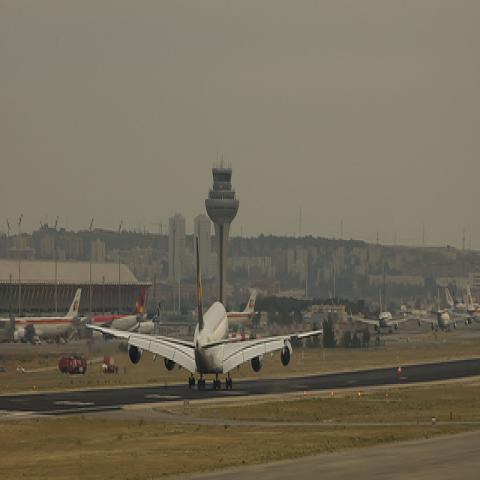truck: (68, 356, 87, 375)
